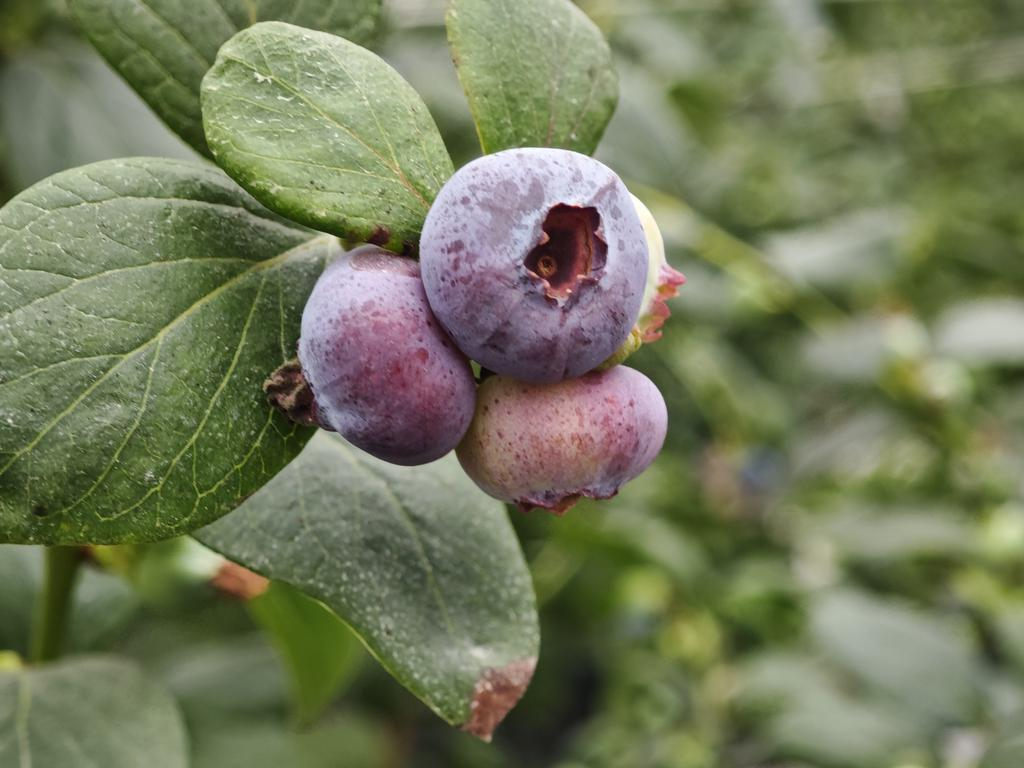Semi-RipeBlueBerry: (423, 147, 648, 383)
